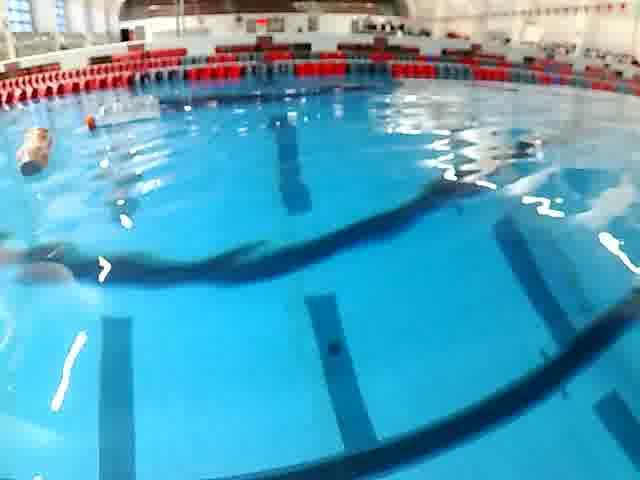Bottle: (81, 90, 165, 136), (13, 122, 58, 180)
